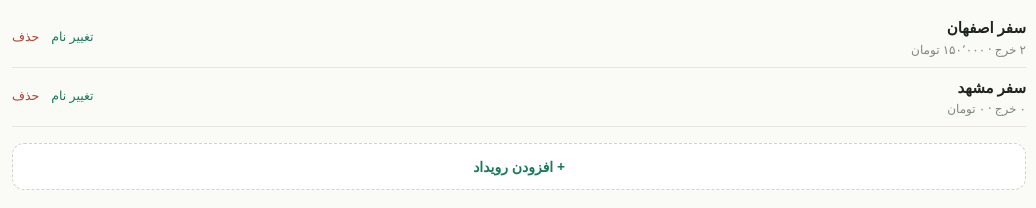
it: EventsManager › renames an event
Click the button "تغییر نام" in the row of "۱۵۰٬۰۰۰": (72, 37) [51,28,94,47]
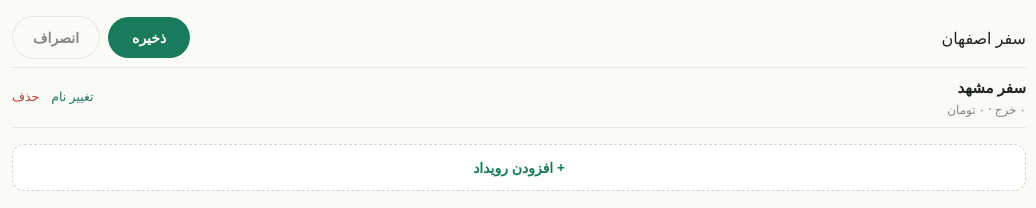
Replace the text in the field named "نام رویداد" with "سفر اصفهان و کاشان": (612, 38) [198,26,1026,50]
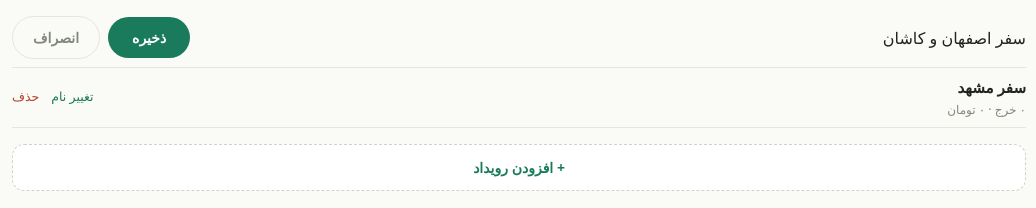
Click the button "ذخیره": (149, 38) [108,17,190,58]
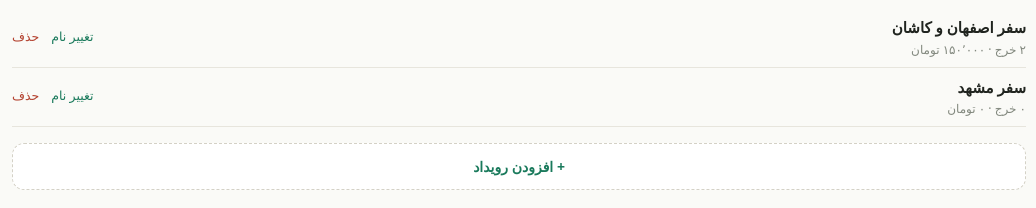
Expected: the text "سفر اصفهان و کاشان" is shown, [892,17,1026,37]
